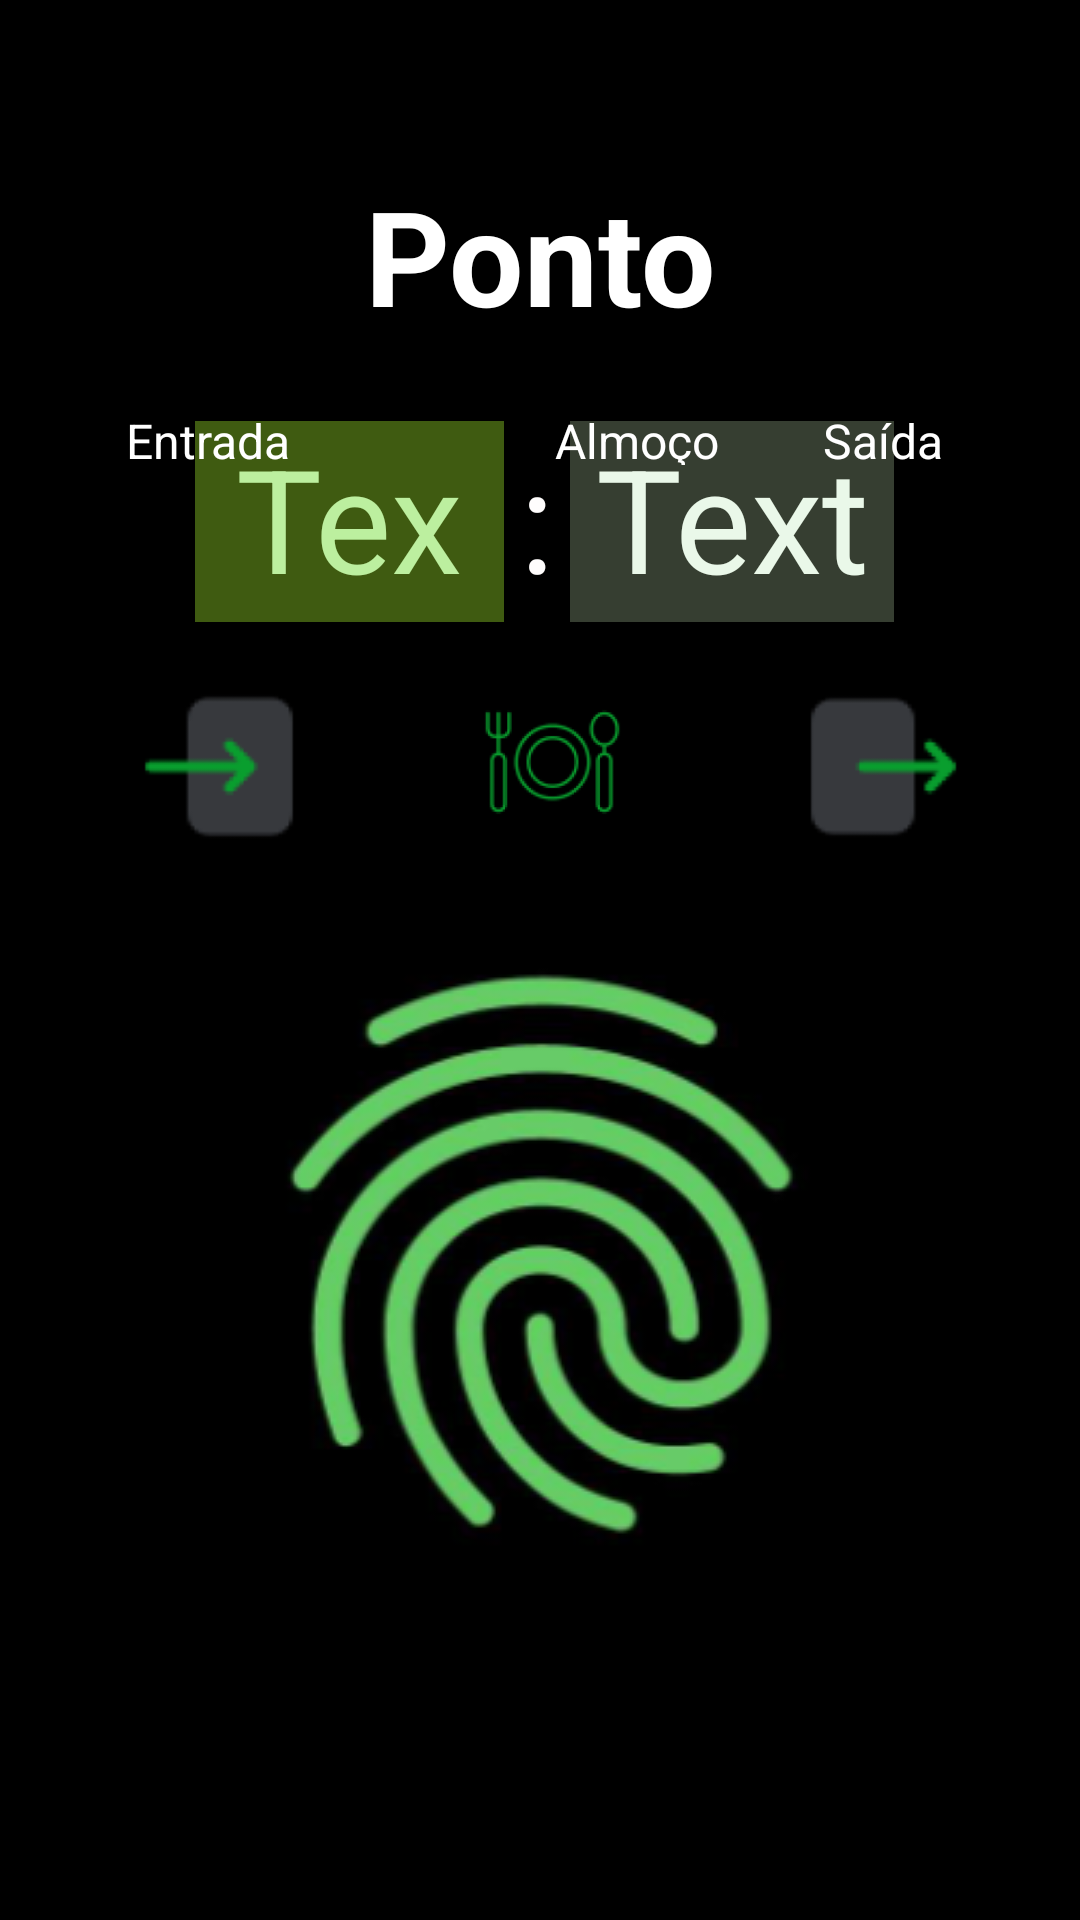

Screen size 1080px x 1920px. Icon name, then its box in pixels as bbox=(x1, y1, x2, y2):
garfoecolher: bbox=(485, 711, 620, 814)
out: bbox=(811, 699, 957, 835)
